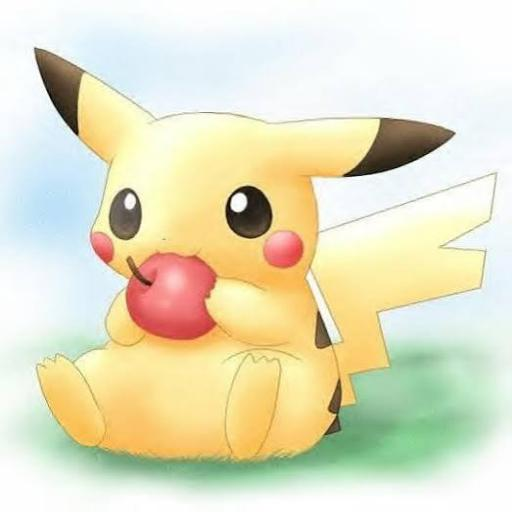Pikachu: (31, 47, 496, 461)
